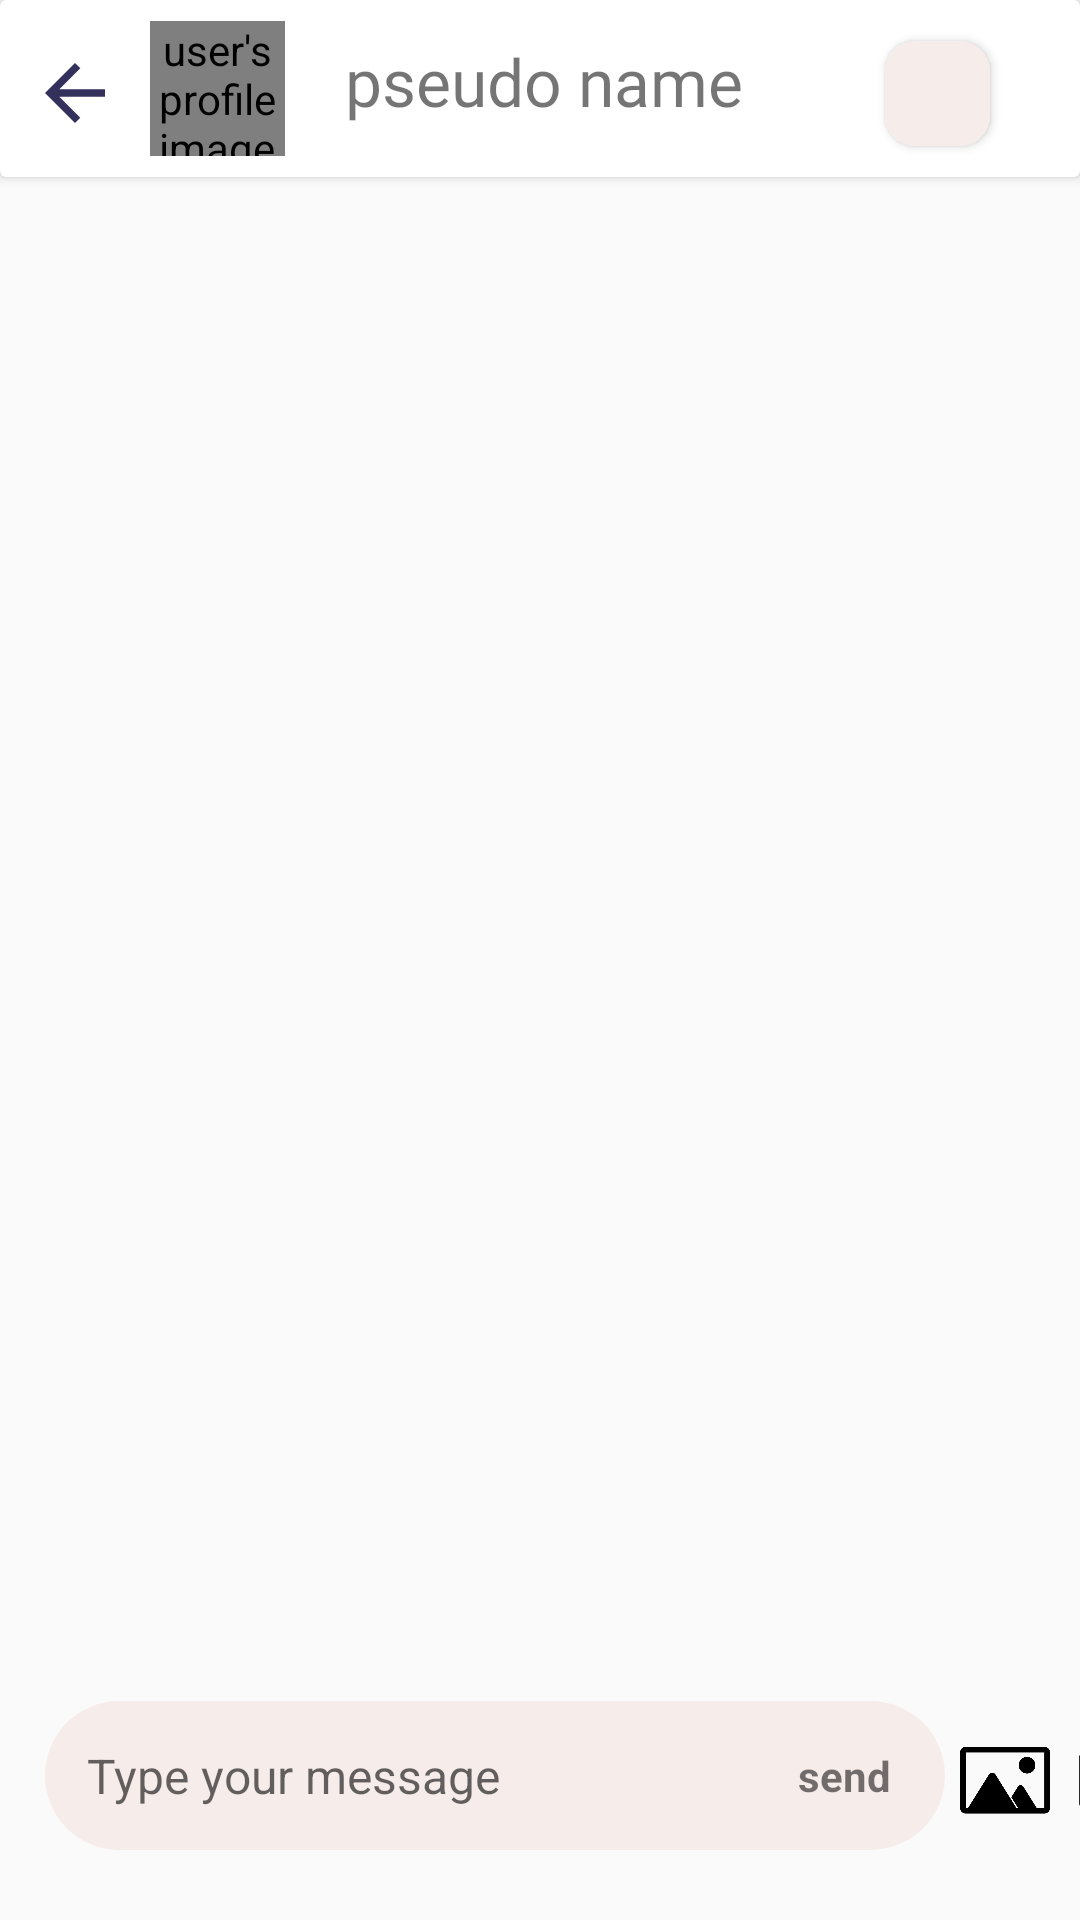

Locate icon controls on the screen. Image size 1080 x 1920, boxes as [x1,y1,x2,y2].
go back button: [45,63,105,123]
Upload images: [960,1747,1050,1814]
